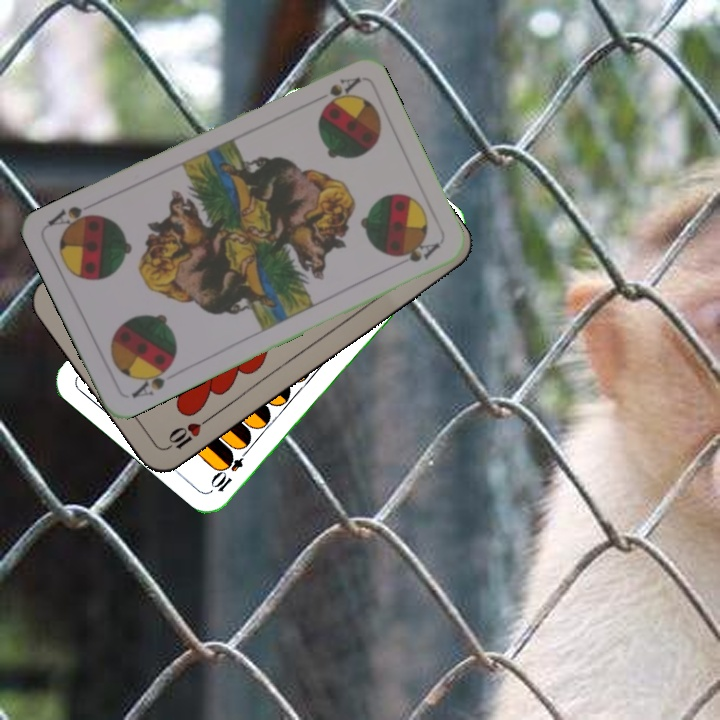E10: (209, 443, 253, 495)
H10: (162, 413, 213, 453)
SA: (127, 358, 176, 401), (307, 73, 363, 110)
